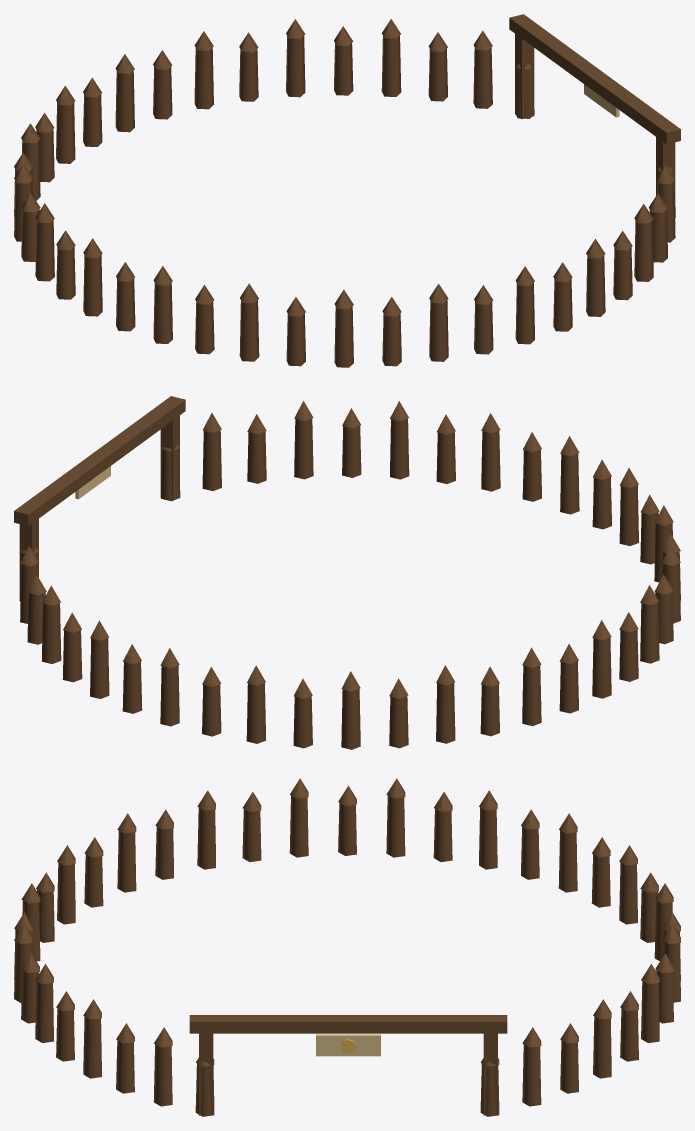
File: base_merchant_walls_1.glb
The picture shows the model from 3 angles, top to bottom: view 1: azimuth 30°, elevation 25°; view 2: azimuth 150°, elevation 25°; view 3: azimuth 270°, elevation 25°; orthographic projection.
Parts seen in each view (by area): view 1: gate_beam, palisade_11, palisade_17, palisade_19, palisade_31, palisade_3, palisade_5, palisade_27, palisade_1, palisade_29, palisade_33, palisade_25 (+26 smaller); view 2: gate_beam, palisade_15, palisade_17, palisade_19, palisade_27, palisade_29, palisade_5, palisade_7, palisade_13, palisade_33, palisade_11, palisade_3 (+26 smaller); view 3: gate_beam, gate_sign, palisade_17, palisade_23, palisade_1, palisade_33, palisade_19, palisade_21, palisade_3, palisade_11, palisade_13, palisade_25 (+27 smaller).
Part boxes in pixels (left/top/right/bottom): gate_beam: left=509, top=14, right=680, bottom=144; palisade_11: left=56, top=102, right=75, bottom=163; palisade_17: left=35, top=220, right=54, bottom=281; palisade_19: left=83, top=255, right=102, bottom=316; palisade_31: left=586, top=255, right=605, bottom=316; palisade_3: left=381, top=35, right=401, bottom=96; palisade_5: left=286, top=35, right=305, bottom=97; palisade_27: left=429, top=300, right=448, bottom=361; palisade_1: left=473, top=47, right=492, bottom=108; palisade_29: left=515, top=283, right=534, bottom=344; palisade_33: left=634, top=220, right=653, bottom=281; palisade_25: left=334, top=306, right=353, bottom=367; gate_beam: left=14, top=396, right=185, bottom=525; palisade_15: left=522, top=665, right=541, bottom=726; palisade_17: left=592, top=637, right=611, bottom=698; palisade_19: left=640, top=602, right=659, bottom=663; palisade_27: left=560, top=453, right=579, bottom=514; palisade_29: left=481, top=430, right=500, bottom=491; palisade_5: left=90, top=638, right=109, bottom=698; palisade_7: left=160, top=665, right=179, bottom=726; palisade_13: left=436, top=683, right=455, bottom=743; palisade_33: left=294, top=418, right=313, bottom=479; palisade_11: left=341, top=689, right=360, bottom=749; palisade_3: left=41, top=603, right=61, bottom=663; gate_beam: left=189, top=1015, right=507, bottom=1033; gate_sign: left=316, top=1034, right=380, bottom=1056; palisade_17: left=386, top=795, right=405, bottom=857; palisade_23: left=117, top=830, right=136, bottom=892; palisade_1: left=522, top=1044, right=541, bottom=1106; palisade_33: left=83, top=1016, right=101, bottom=1078; palisade_19: left=289, top=795, right=308, bottom=857; palisade_21: left=197, top=807, right=215, bottom=869; palisade_3: left=593, top=1016, right=611, bottom=1078; palisade_11: left=619, top=862, right=637, bottom=924; palisade_13: left=558, top=830, right=577, bottom=892; palisade_25: left=57, top=862, right=75, bottom=924.
Bounding box in the file's own units: 0.9826 × 0.16 × 1.03.
